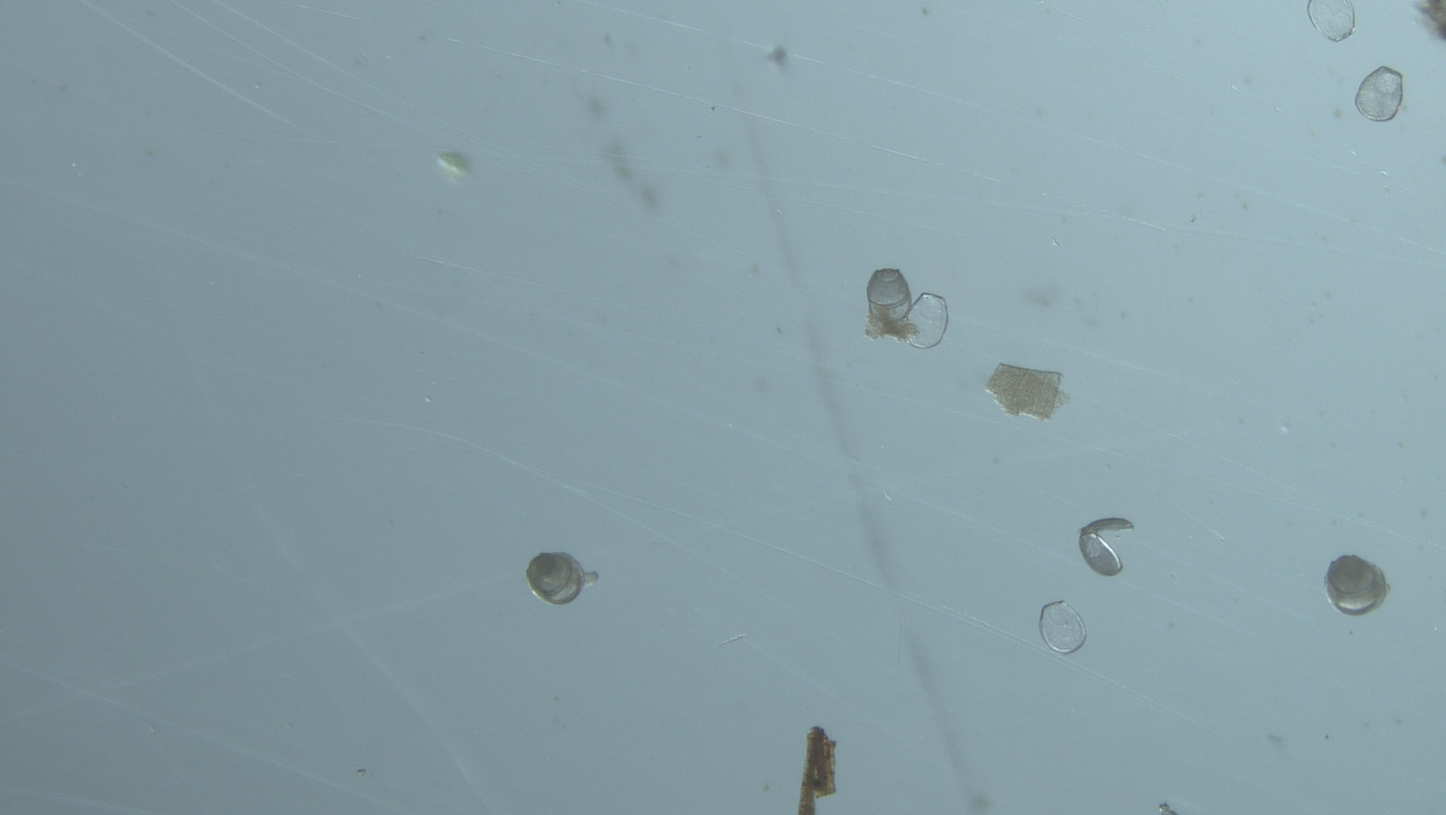dead: (1039, 601, 1087, 655), (905, 294, 948, 349), (1308, 0, 1356, 42)
live: (1326, 555, 1389, 616), (526, 552, 598, 605), (1356, 67, 1404, 122), (1081, 535, 1123, 576)
